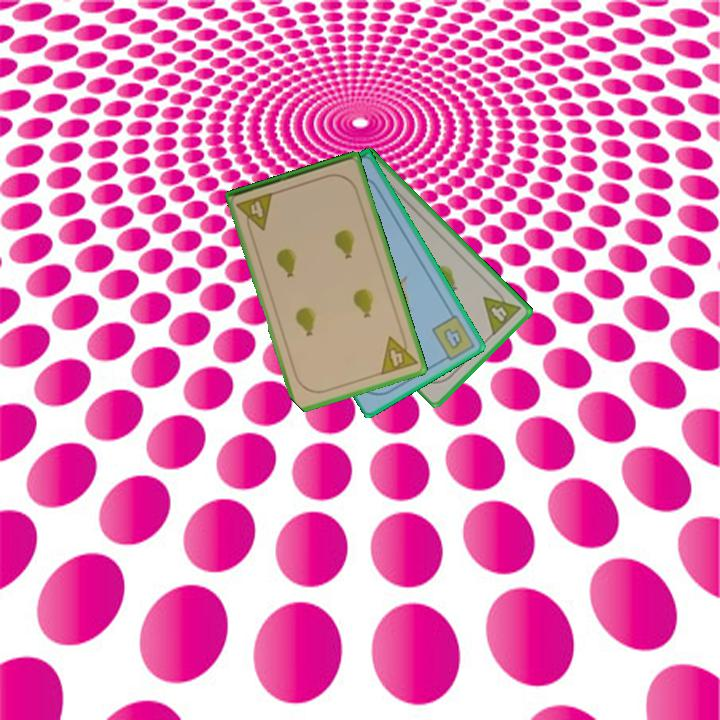4b: (428, 311, 478, 365)
4p: (480, 284, 524, 338), (377, 329, 420, 378), (233, 189, 276, 236)
